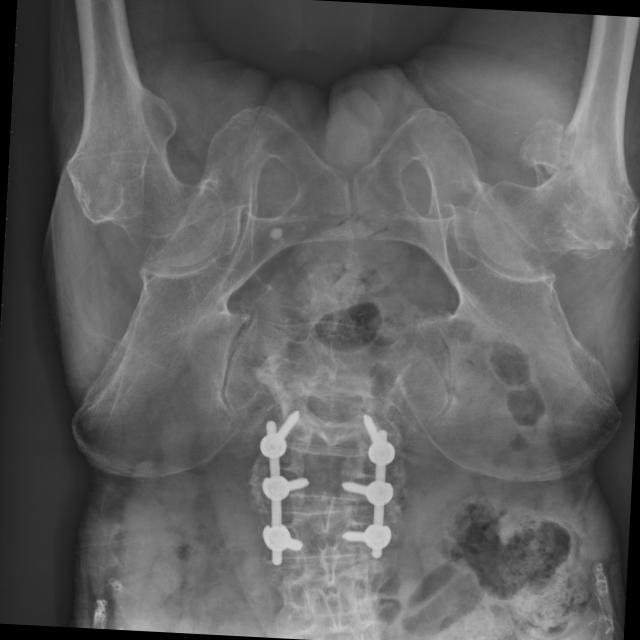normal-left: (65, 31, 224, 265)
right-intertrochanteric: (473, 166, 613, 270), (560, 83, 640, 250)
right-lesser-trochanter: (517, 124, 570, 173)
